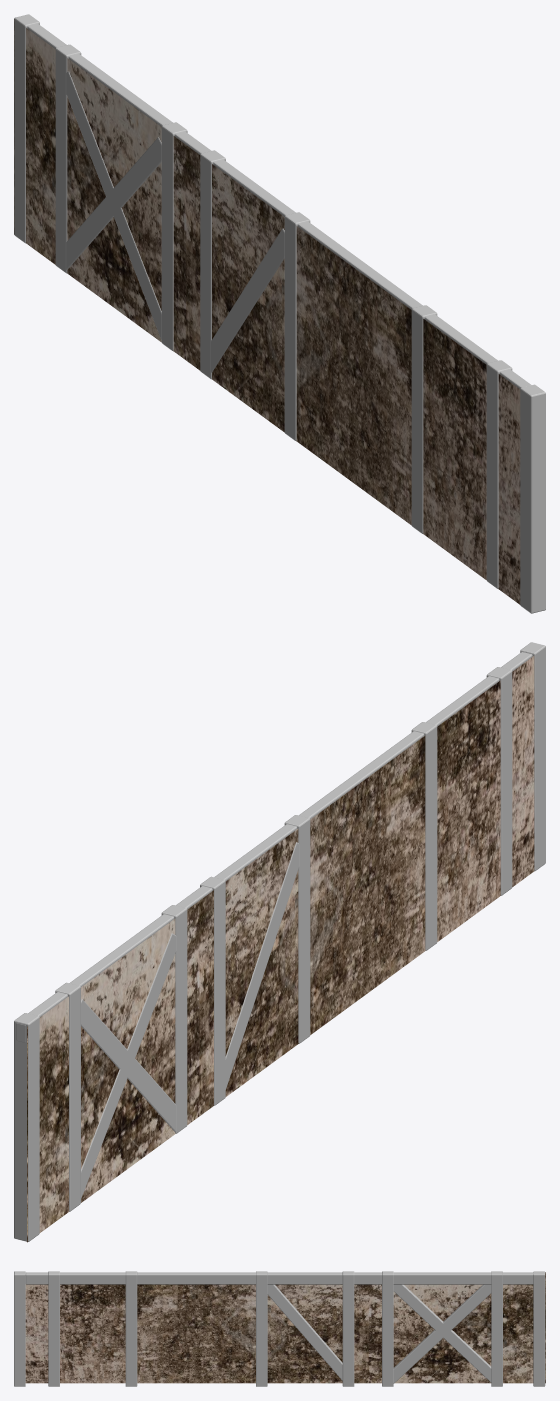
The model's file is Wall.fbx.
3 renders of one model, top to bottom at view 1: azimuth 30°, elevation 25°; view 2: azimuth 150°, elevation 25°; view 3: azimuth 270°, elevation 25°, orthographic. The views are drawn at different scales.
Visible parts, largest first — view 1: Plane, Cube, Cube.001, Cube.002, Cube.003, Cube.004, Cube.007, Cube.008, Cube.011, Cube.010, Cube.009, Cube.006 (+1 smaller); view 2: Plane, Cube.001, Cube.009, Cube.002, Cube.003, Cube.004, Cube.007, Cube.010, Cube, Cube.006, Cube.008, Cube.011 (+1 smaller); view 3: Plane, Cube.001, Cube.011, Cube.010, Cube.003, Cube.006, Cube.009, Cube.005, Cube, Cube.002, Cube.004, Cube.007 (+1 smaller).
Part boxes in pixels (x1=…): Plane: x1=14, y1=19, x2=520, y2=604; Cube: x1=520, y1=384, x2=545, y2=613; Cube.001: x1=27, y1=23, x2=531, y2=388; Cube.002: x1=486, y1=360, x2=512, y2=588; Cube.003: x1=411, y1=305, x2=437, y2=533; Cube.004: x1=284, y1=212, x2=310, y2=440; Cube.007: x1=161, y1=122, x2=187, y2=350; Cube.008: x1=55, y1=44, x2=81, y2=273; Cube.011: x1=66, y1=71, x2=161, y2=340; Cube.010: x1=66, y1=137, x2=161, y2=269; Cube.009: x1=14, y1=14, x2=39, y2=243; Cube.006: x1=200, y1=150, x2=225, y2=379; Plane: x1=27, y1=656, x2=534, y2=1242; Cube.001: x1=16, y1=652, x2=532, y2=1042; Cube.009: x1=14, y1=1013, x2=39, y2=1241; Cube.002: x1=486, y1=667, x2=512, y2=895; Cube.003: x1=411, y1=722, x2=437, y2=950; Cube.004: x1=284, y1=815, x2=310, y2=1043; Cube.007: x1=161, y1=905, x2=187, y2=1133; Cube.010: x1=81, y1=933, x2=176, y2=1198; Cube: x1=520, y1=642, x2=545, y2=871; Cube.006: x1=200, y1=876, x2=225, y2=1105; Cube.008: x1=55, y1=982, x2=80, y2=1211; Cube.011: x1=81, y1=999, x2=176, y2=1132; Plane: x1=25, y1=1272, x2=545, y2=1383; Cube.001: x1=25, y1=1272, x2=533, y2=1284; Cube.011: x1=393, y1=1284, x2=491, y2=1383; Cube.010: x1=393, y1=1284, x2=491, y2=1382; Cube.003: x1=125, y1=1271, x2=137, y2=1386; Cube.006: x1=342, y1=1271, x2=354, y2=1386; Cube.009: x1=533, y1=1271, x2=545, y2=1386; Cube.005: x1=267, y1=1284, x2=342, y2=1380; Cube: x1=14, y1=1271, x2=25, y2=1386; Cube.002: x1=48, y1=1271, x2=59, y2=1386; Cube.004: x1=256, y1=1271, x2=267, y2=1386; Cube.007: x1=382, y1=1271, x2=393, y2=1386.
Bounding box in the file's own units: 41.25 × 562 × 2417.
